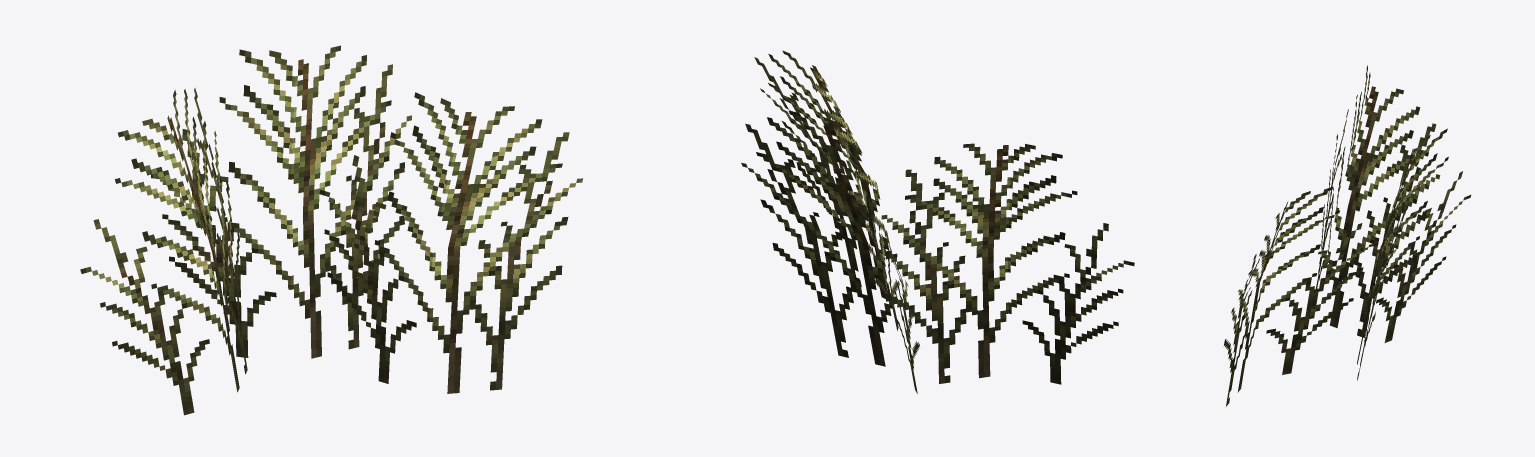
File: cao2_md.fbx
3 renders of one model, left to right at view 1: azimuth 30°, elevation 25°; view 2: azimuth 150°, elevation 25°; view 3: azimuth 270°, elevation 25°, orthographic. The views are drawn at different scales.
Parts seen in each view (by area): view 1: cao2_md; view 2: cao2_md; view 3: cao2_md.
Boxes of the visible parts, x1=… form: cao2_md: x1=80, y1=45, x2=582, y2=415; cao2_md: x1=741, y1=50, x2=1134, y2=393; cao2_md: x1=1223, y1=65, x2=1471, y2=406.
Size of the model in its own units: 375 by 189 by 228.
